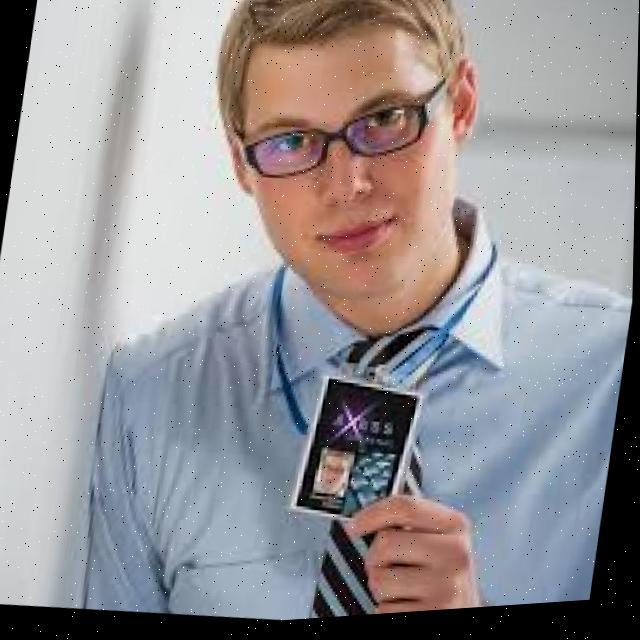id_card: (232, 257, 469, 544)
